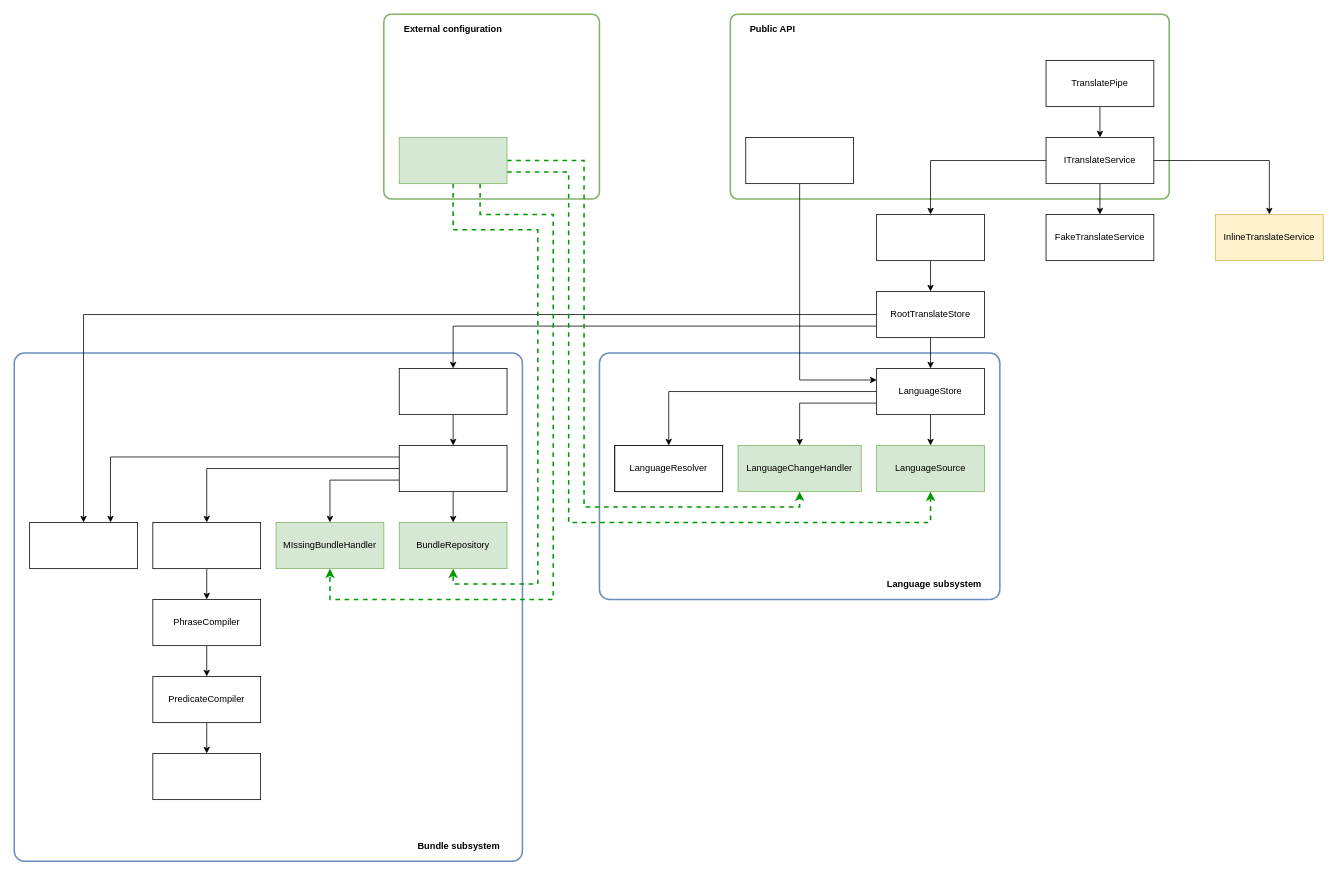
Some shapes in this 1337 by 875 pixel diagram are drawn without their labels. The shapes that lost their labels are listed below. From the top down, each one's centre as x and y in pixels, then its label:
point 452,160: RootConfiguration
point 799,160: ActiveLanguage
point 930,237: RootTranslateService
point 452,391: BundleCollectionStore
point 452,468: BundleSource
point 83,545: BundleRegistry
point 206,545: BundleCompiler
point 206,776: OperatorCompiler
